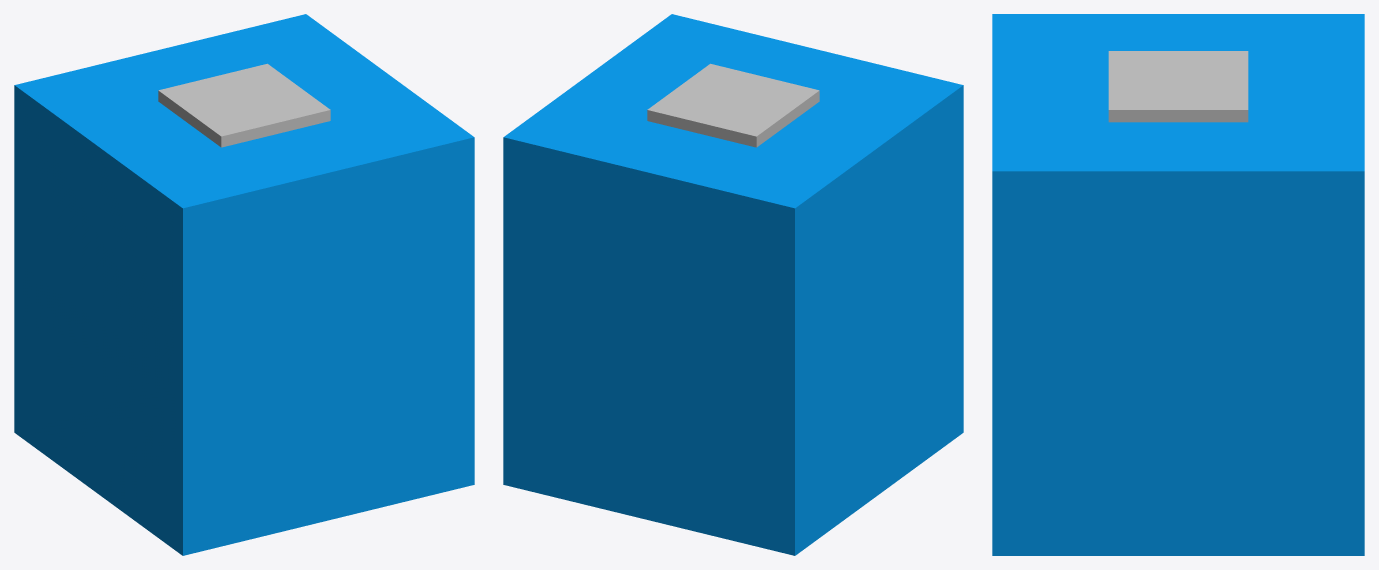
File: FootCTop.obj
3 views of the same model, side by side, from view 1: azimuth 30°, elevation 25°; view 2: azimuth 150°, elevation 25°; view 3: azimuth 270°, elevation 25° (orthographic). The views are drawn at different scales.
Bounding box in the file's own units: 0.08 × 0.094 × 0.08.
